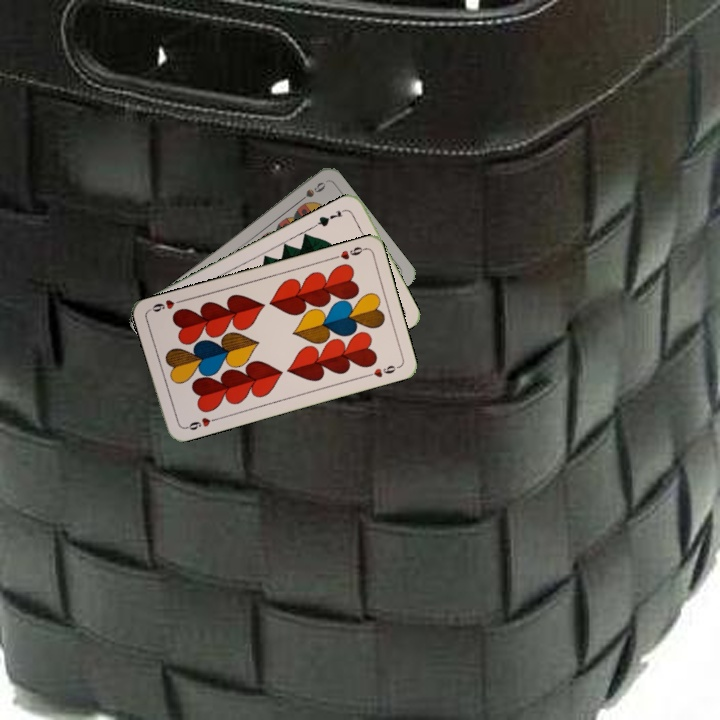G7: (311, 205, 350, 229)
H9: (180, 413, 220, 433), (328, 243, 368, 262)
S9: (292, 178, 328, 207)
